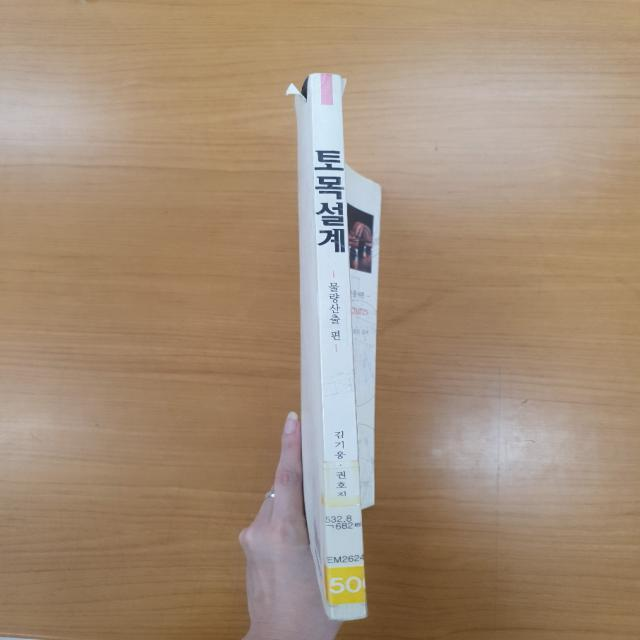Ripped: (281, 72, 312, 112), (338, 71, 355, 111)
Wornout: (324, 613, 371, 625), (309, 69, 340, 78)
